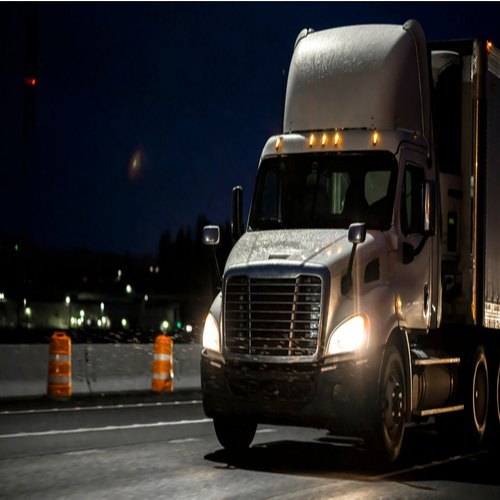truck: (197, 96, 500, 461)
